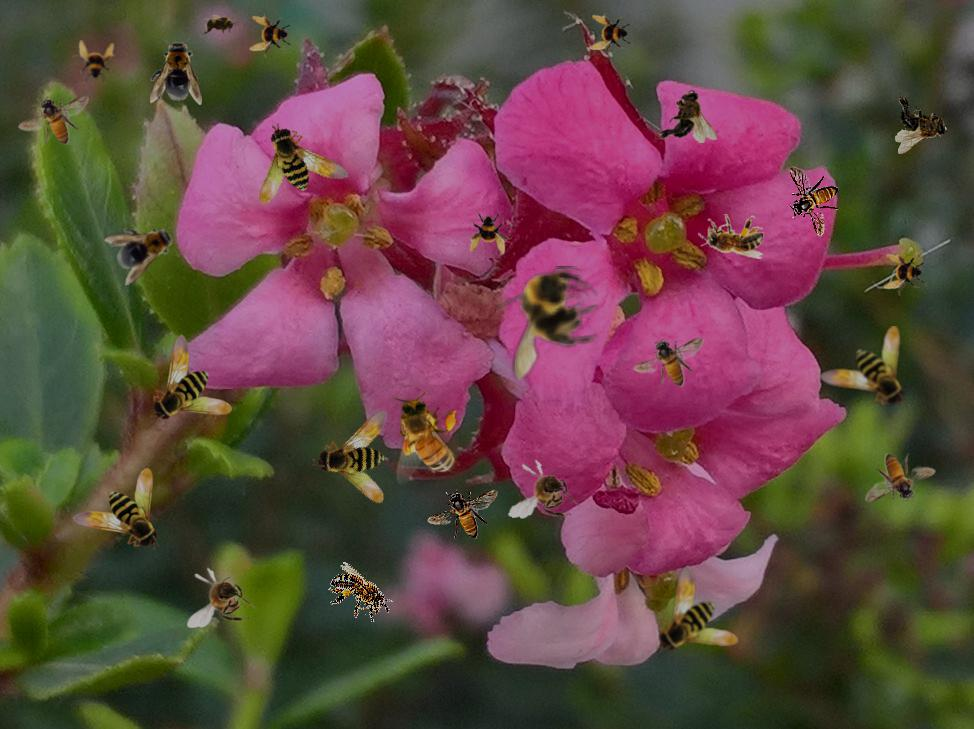Bee: (308, 392, 428, 512), (494, 266, 601, 381), (250, 121, 358, 225), (72, 468, 160, 550), (656, 565, 738, 653), (150, 334, 232, 422), (819, 326, 907, 408), (101, 208, 187, 286), (392, 392, 460, 485), (321, 560, 401, 631), (508, 456, 585, 526), (187, 567, 257, 628), (633, 337, 704, 387), (18, 95, 89, 145), (865, 453, 936, 503), (789, 166, 839, 237), (427, 489, 498, 539), (150, 37, 202, 105), (895, 92, 948, 154), (655, 90, 717, 143), (698, 214, 764, 259), (72, 40, 116, 84), (468, 211, 512, 255), (589, 13, 633, 57), (249, 14, 293, 58), (883, 252, 927, 296), (200, 14, 240, 36)
